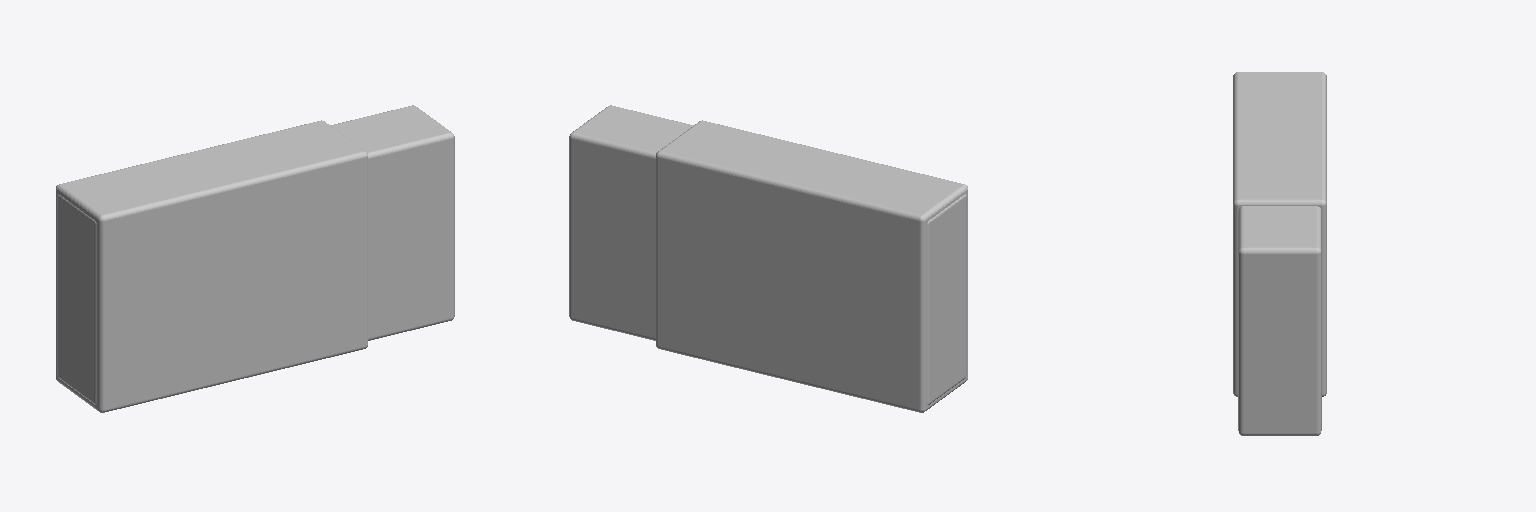
Rendered from eraser.obj.
3 renders of one model, left to right at view 1: azimuth 30°, elevation 25°; view 2: azimuth 150°, elevation 25°; view 3: azimuth 270°, elevation 25°, orthographic.
Visible parts, largest first — view 1: obj_0; view 2: obj_0; view 3: obj_0.
Part boxes in pixels (x1,y1,x2,y2): obj_0: (56,105,454,412); obj_0: (569,105,967,412); obj_0: (1233,72,1326,435).
Size of the model in its own units: 11.43 by 6 by 2.57.